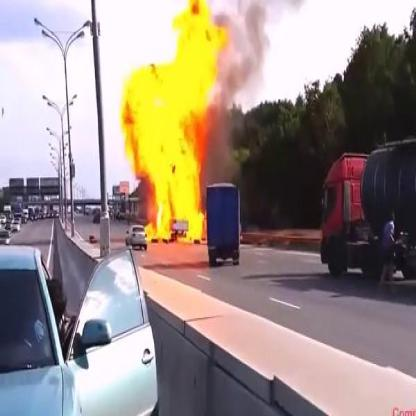fire: (120, 0, 228, 246)
